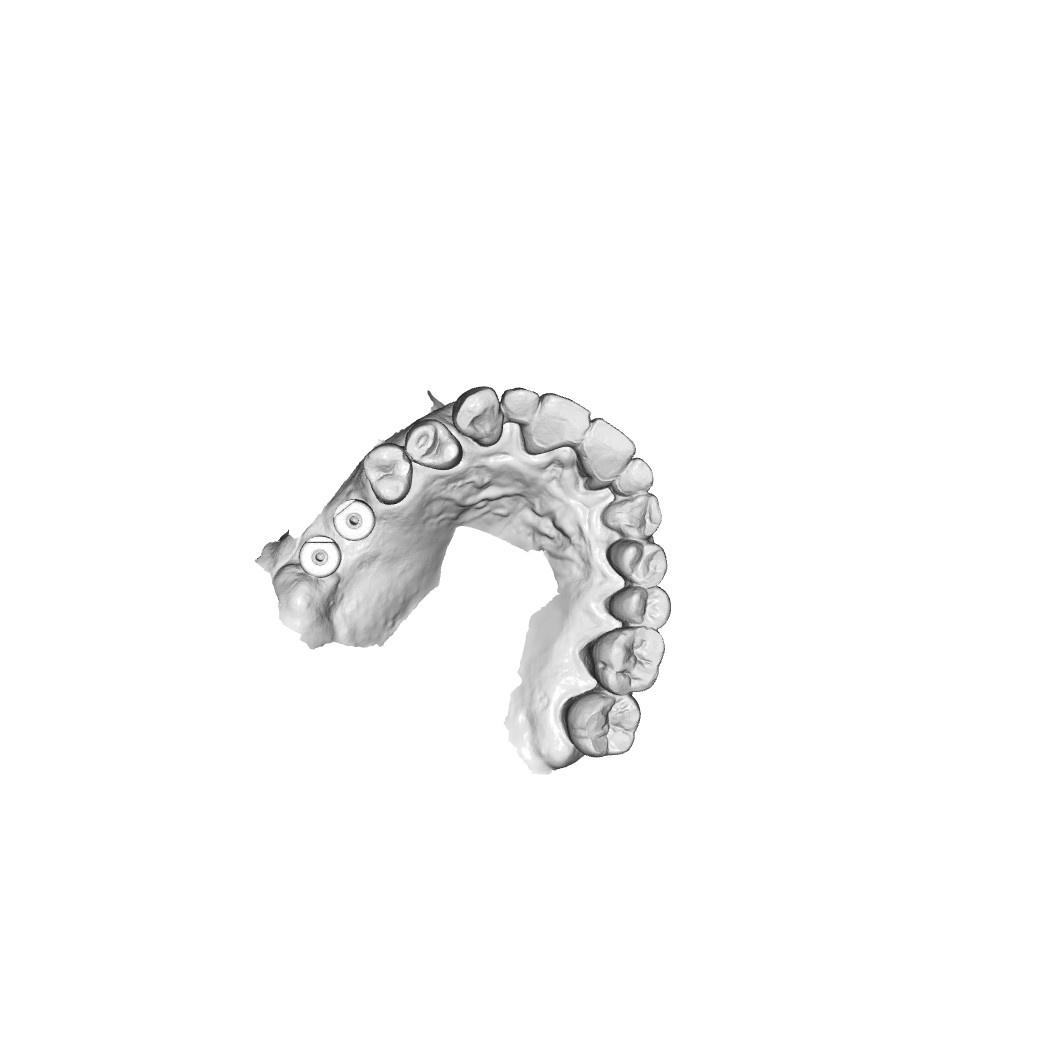canine: (452, 384, 504, 447), (598, 492, 661, 541)
implant: (297, 529, 346, 578), (331, 497, 376, 538)
incisor: (530, 392, 589, 455), (583, 416, 634, 484), (613, 455, 657, 497), (501, 384, 540, 423)
molar: (564, 691, 640, 758), (588, 630, 663, 690)
premolar: (605, 536, 668, 590), (402, 418, 464, 472), (363, 443, 413, 505), (608, 586, 673, 629)
